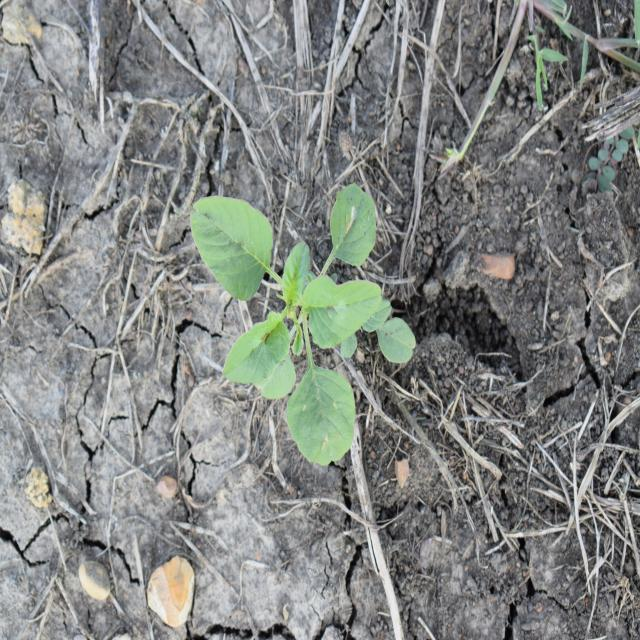PalmerAmaranth: (189, 181, 418, 468)
